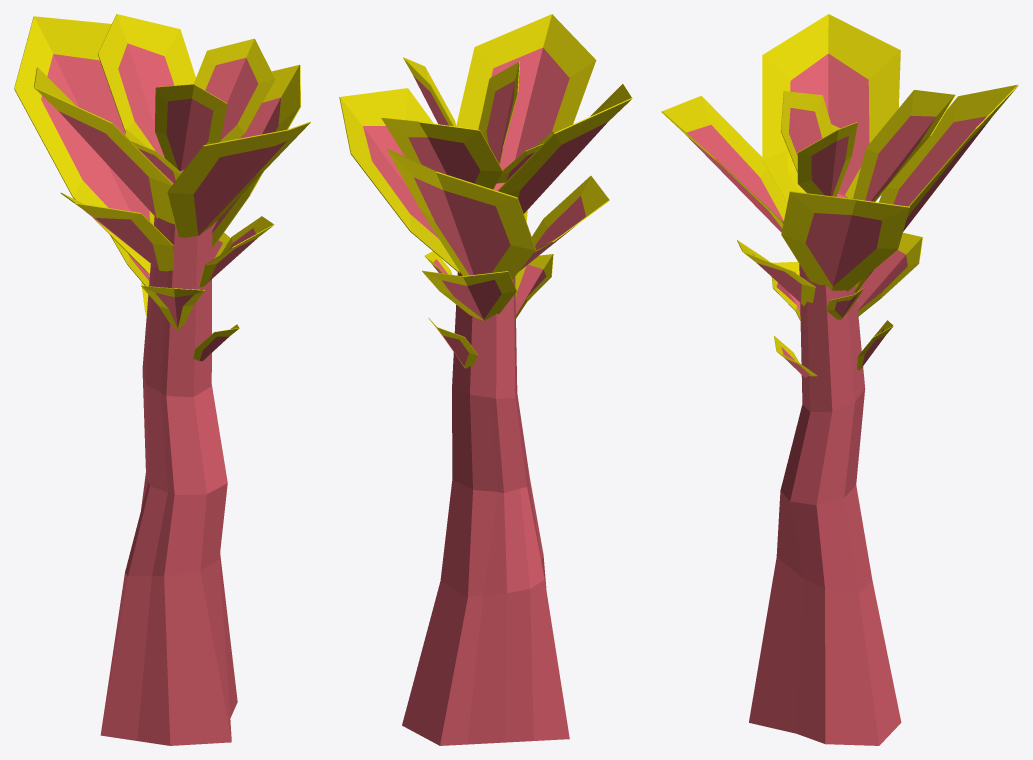
File: tree-crown-big.fbx
3 views of the same model, side by side, from view 1: azimuth 30°, elevation 25°; view 2: azimuth 150°, elevation 25°; view 3: azimuth 270°, elevation 25° (orthographic). The views are drawn at different scales.
Visible parts, largest first — view 1: tree-crown-big; view 2: tree-crown-big; view 3: tree-crown-big.
Boxes of the visible parts, <box> form: tree-crown-big: <box>14,14,310,745</box>; tree-crown-big: <box>339,14,632,745</box>; tree-crown-big: <box>661,14,1018,745</box>.
Bounding box in the file's own units: 2.79 × 6.3 × 3.21.
